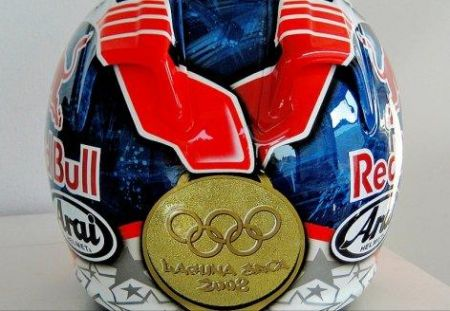helmet: (41, 8, 387, 304)
